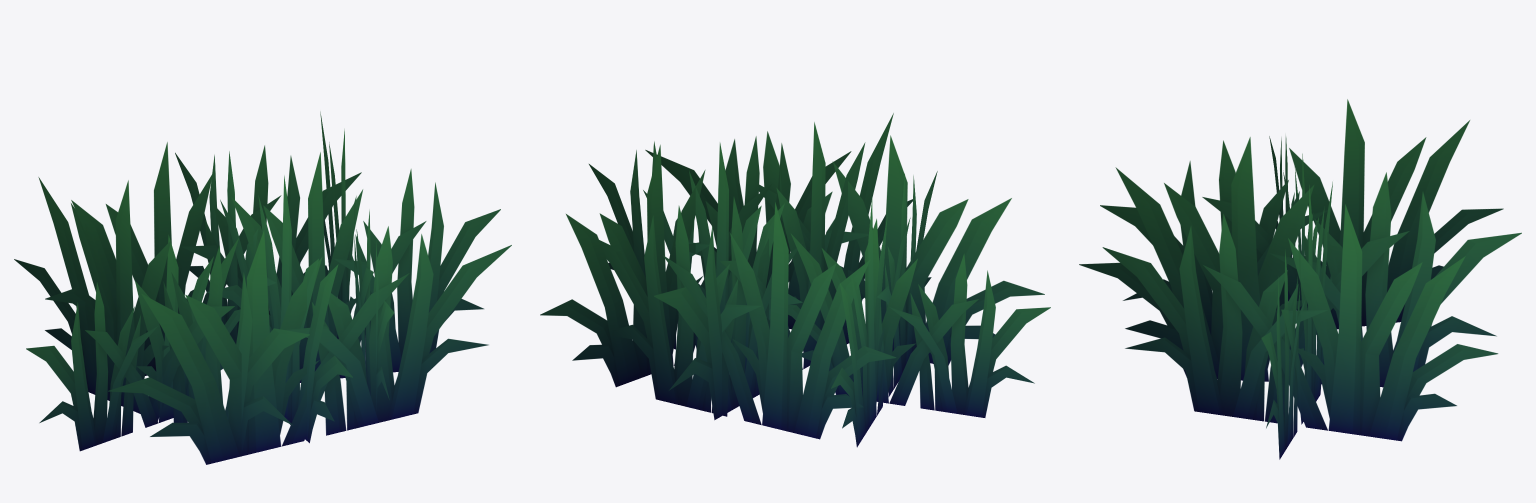
The model's file is SM_Env_Grass_Tall_Clump_02.gltf.
3 renders of one model, left to right at view 1: azimuth 30°, elevation 25°; view 2: azimuth 150°, elevation 25°; view 3: azimuth 270°, elevation 25°, orthographic.
Parts seen in each view (by area): view 1: SM_Env_Grass_Tall_Clump_02_LOD0; view 2: SM_Env_Grass_Tall_Clump_02_LOD0; view 3: SM_Env_Grass_Tall_Clump_02_LOD0.
Boxes of the visible parts, left/top/right/bottom form: SM_Env_Grass_Tall_Clump_02_LOD0: left=14, top=112, right=511, bottom=464; SM_Env_Grass_Tall_Clump_02_LOD0: left=540, top=113, right=1050, bottom=447; SM_Env_Grass_Tall_Clump_02_LOD0: left=1079, top=99, right=1521, bottom=459.
Size of what is drawn, in the model's own units: 1.79 by 1.07 by 1.45.
1 material, 1 textured.
